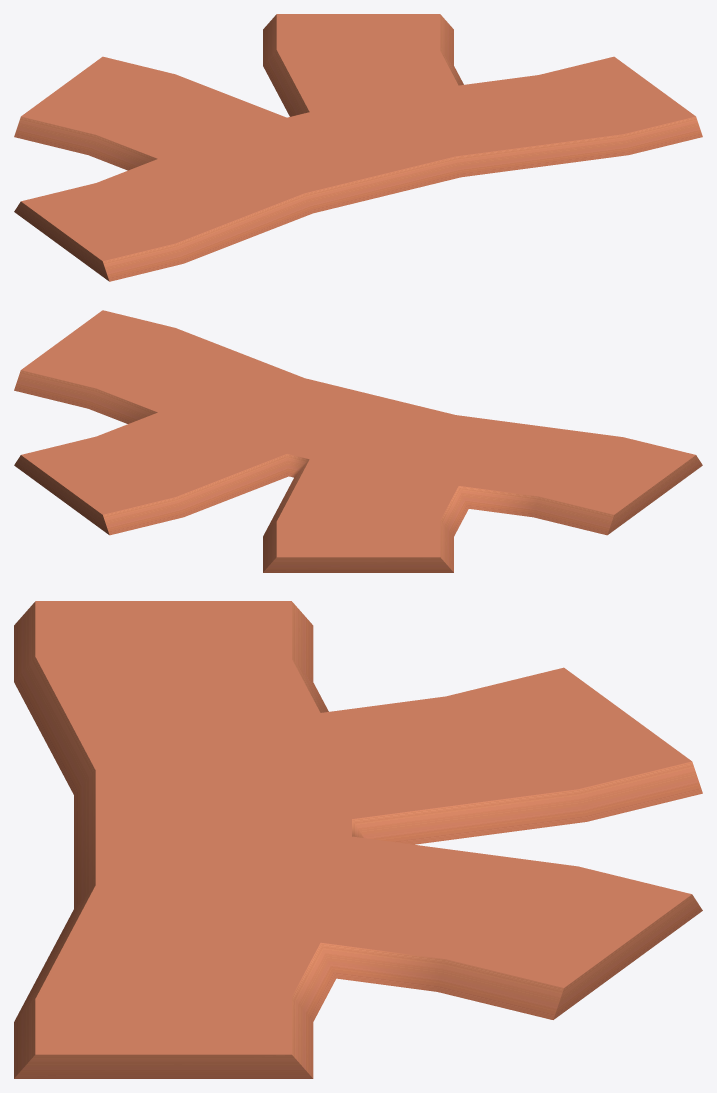
Rendered from path-intersection-h.glb.
The picture shows the model from 3 angles, top to bottom: view 1: azimuth 30°, elevation 25°; view 2: azimuth 150°, elevation 25°; view 3: azimuth 270°, elevation 25°; orthographic projection. The views are drawn at different scales.
Parts seen in each view (by area): view 1: path-intersectionH; view 2: path-intersectionH; view 3: path-intersectionH.
Boxes of the visible parts, bbox=[...] form: path-intersectionH: bbox=[14, 14, 702, 281]; path-intersectionH: bbox=[14, 310, 702, 572]; path-intersectionH: bbox=[14, 601, 702, 1078].
Size of the model in its own units: 1 by 0.025 by 0.6423.
Materials: 1 (1 with a texture image).
